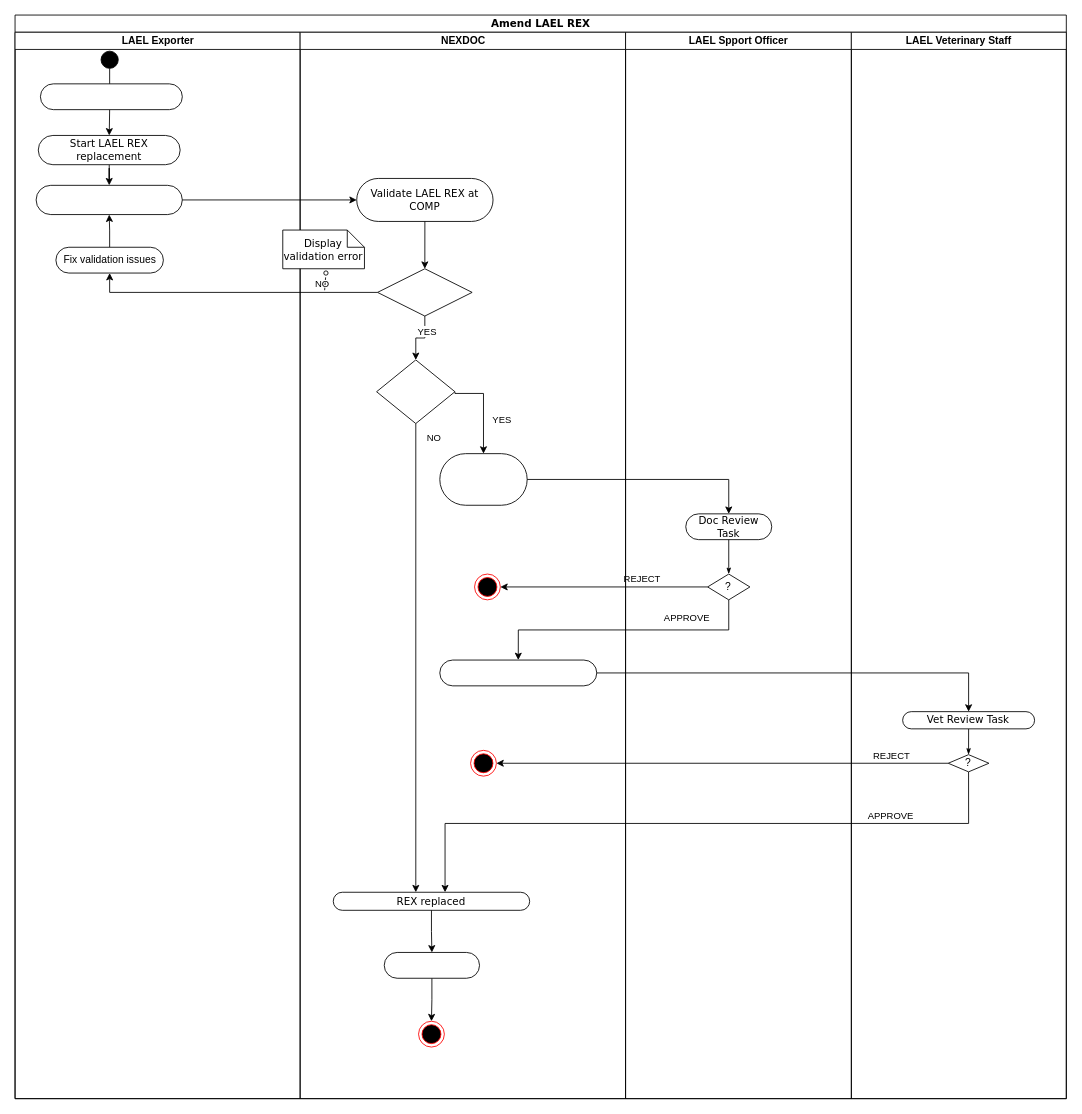
Image size: 1082x1114. Some labels were removed from this diagram. The shapes that lost their labels are listed below. From the top down, each one's centre as x and y in pixels, then its label:
At pixel 111 96: "Open LAEL REX in COMP".
At pixel 108 199: "Submit LAEL REX".
At pixel 424 292: "Validation Ok?".
At pixel 415 391: "REVIEW required ?".
At pixel 483 479: "Create LAEL Doc Review Task".
At pixel 518 672: "Create VET Review Task".
At pixel 431 965: "Update ICS record".
